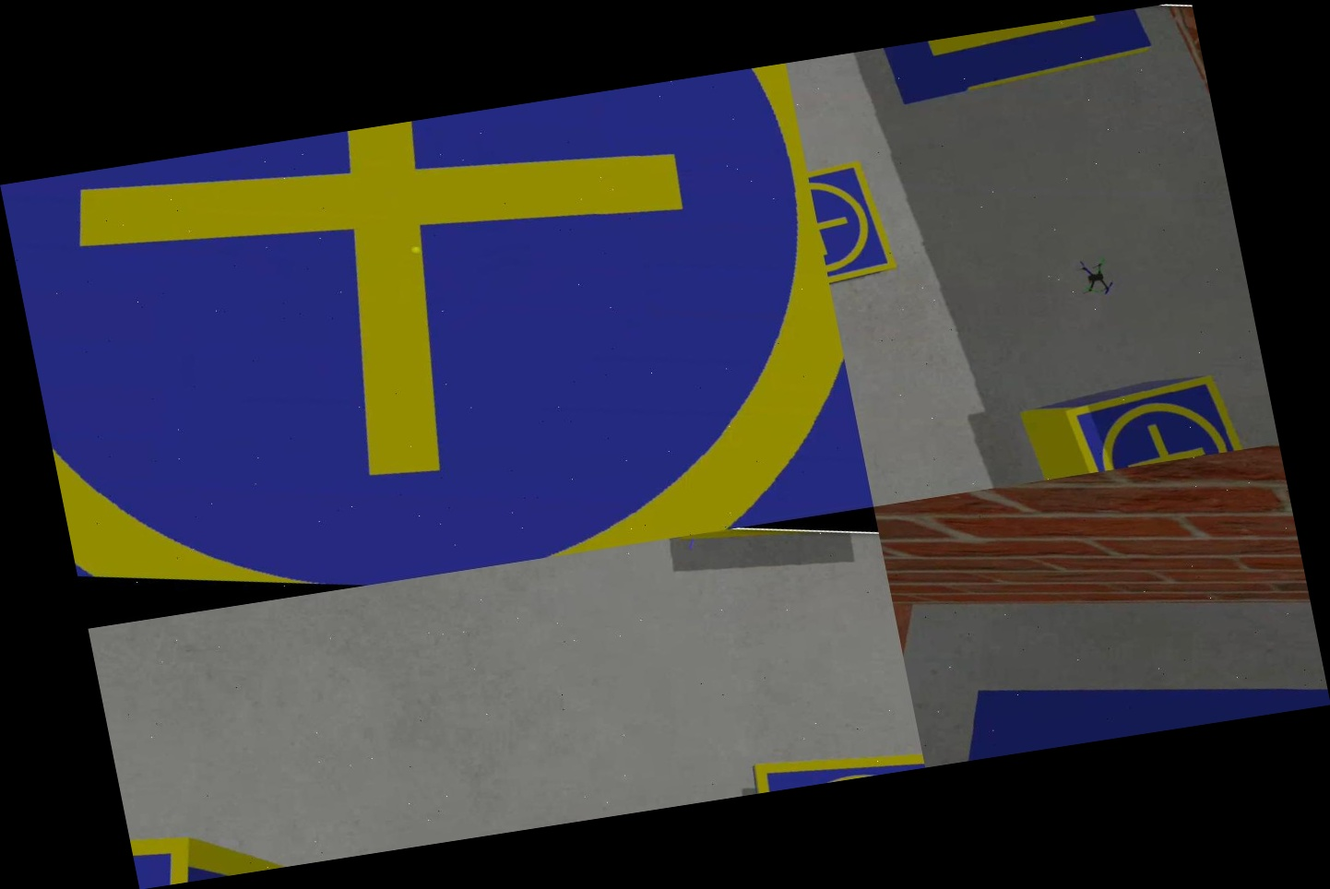large_base: (906, 606, 1330, 766), (850, 6, 1174, 152)
small_base: (0, 63, 873, 628), (1019, 341, 1278, 480), (802, 134, 927, 312)
